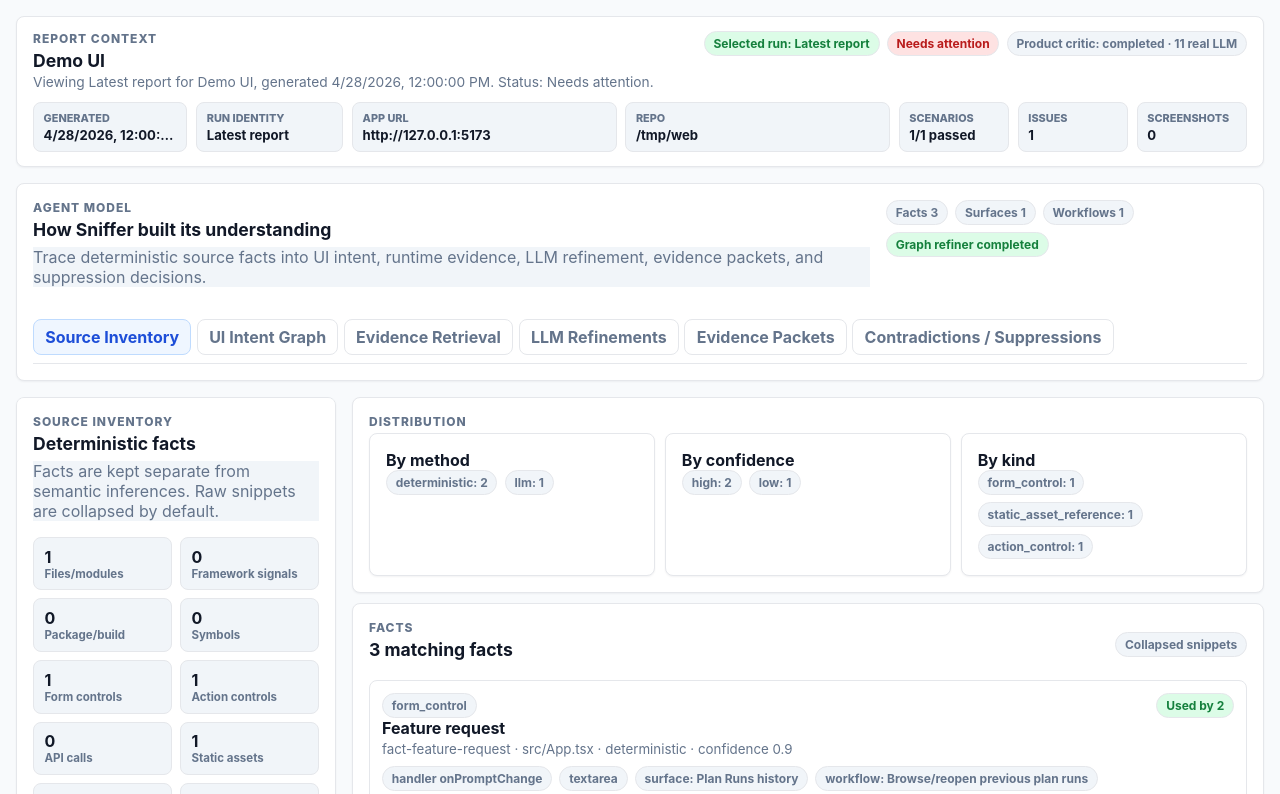
Test: Agent Model view › shows evidence retrieval and evidence packets
Click the tab "Evidence Retrieval".
click(429, 337)  # box [344,319,513,356]
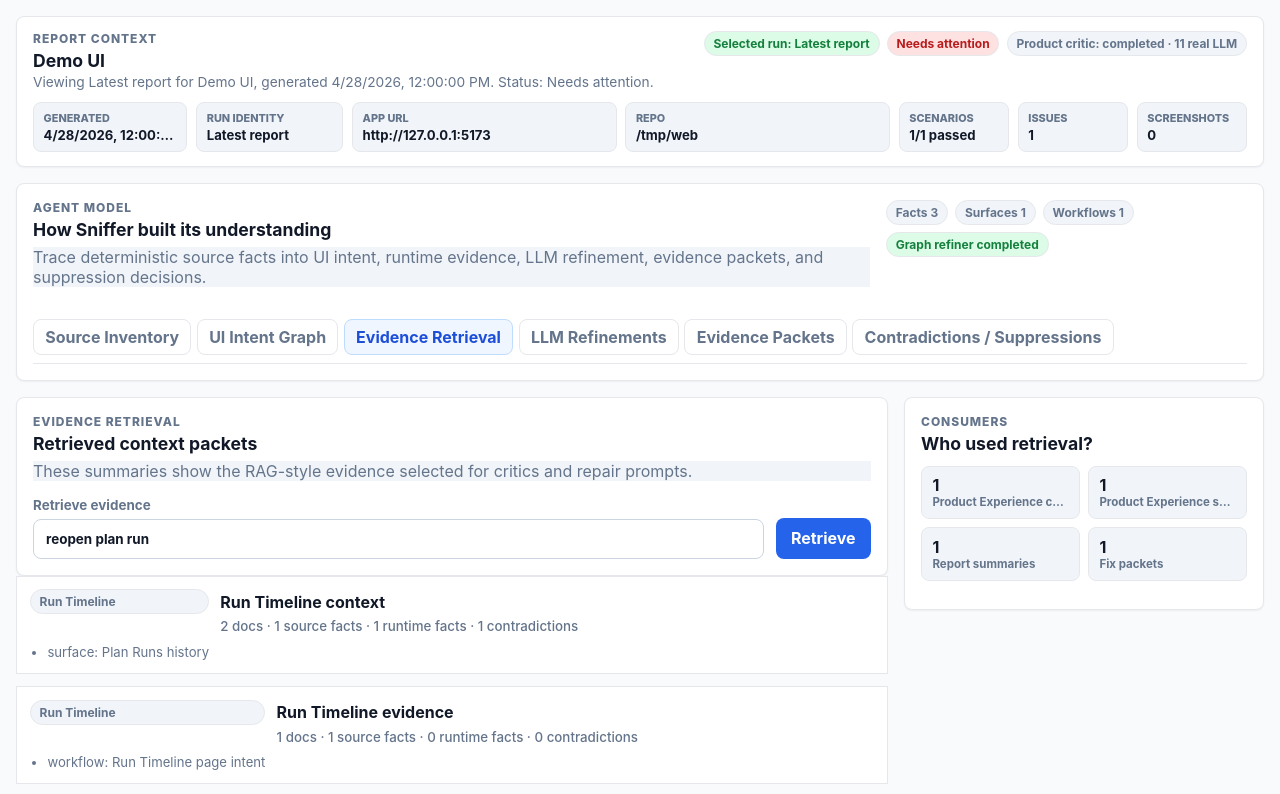
Expected: the heading "Retrieved context packets" is shown, [33,433,257,454]
Expected: the text "Run Timeline context" is shown, [220,592,385,612]
Replace the text in the field named "Evidence retrieval query" with "raw json copy" at (398, 539), box [33,519,764,559]
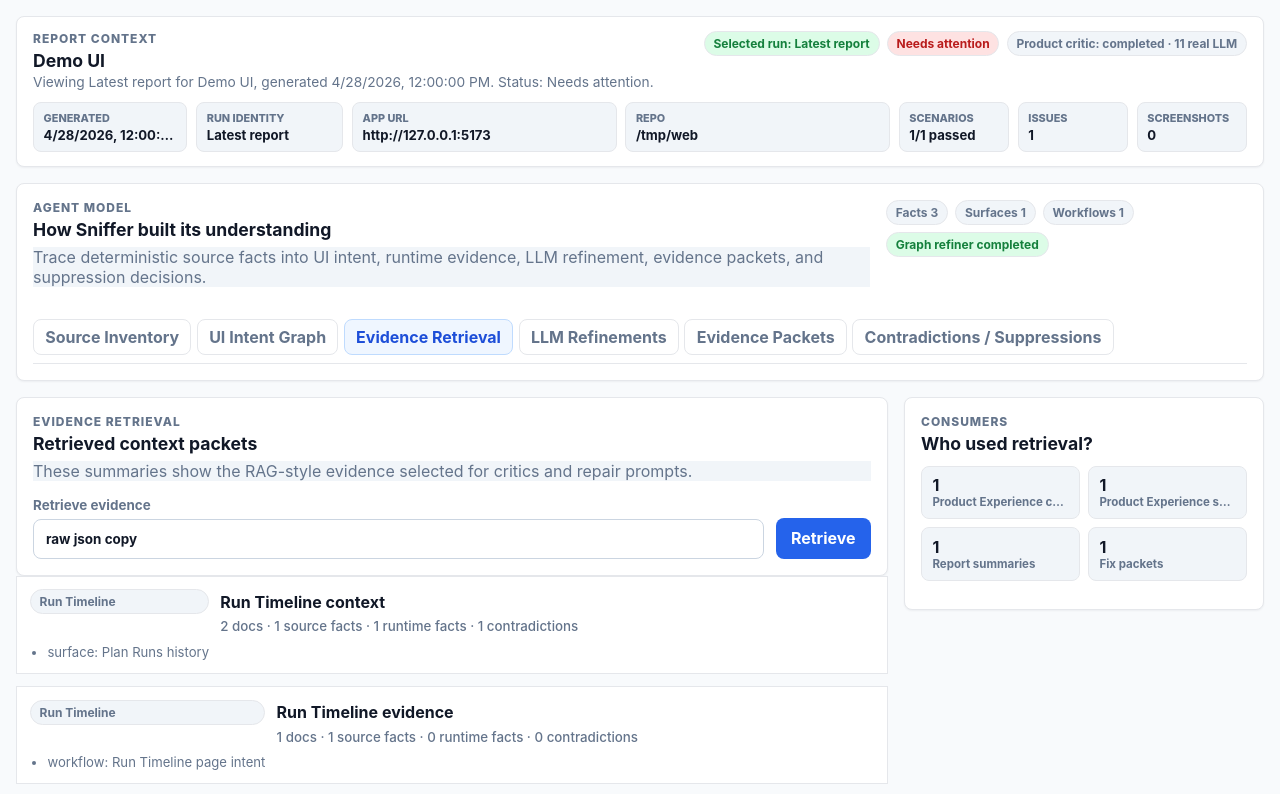
Click the button "Retrieve".
click(823, 538)  # box [776,518,871,559]
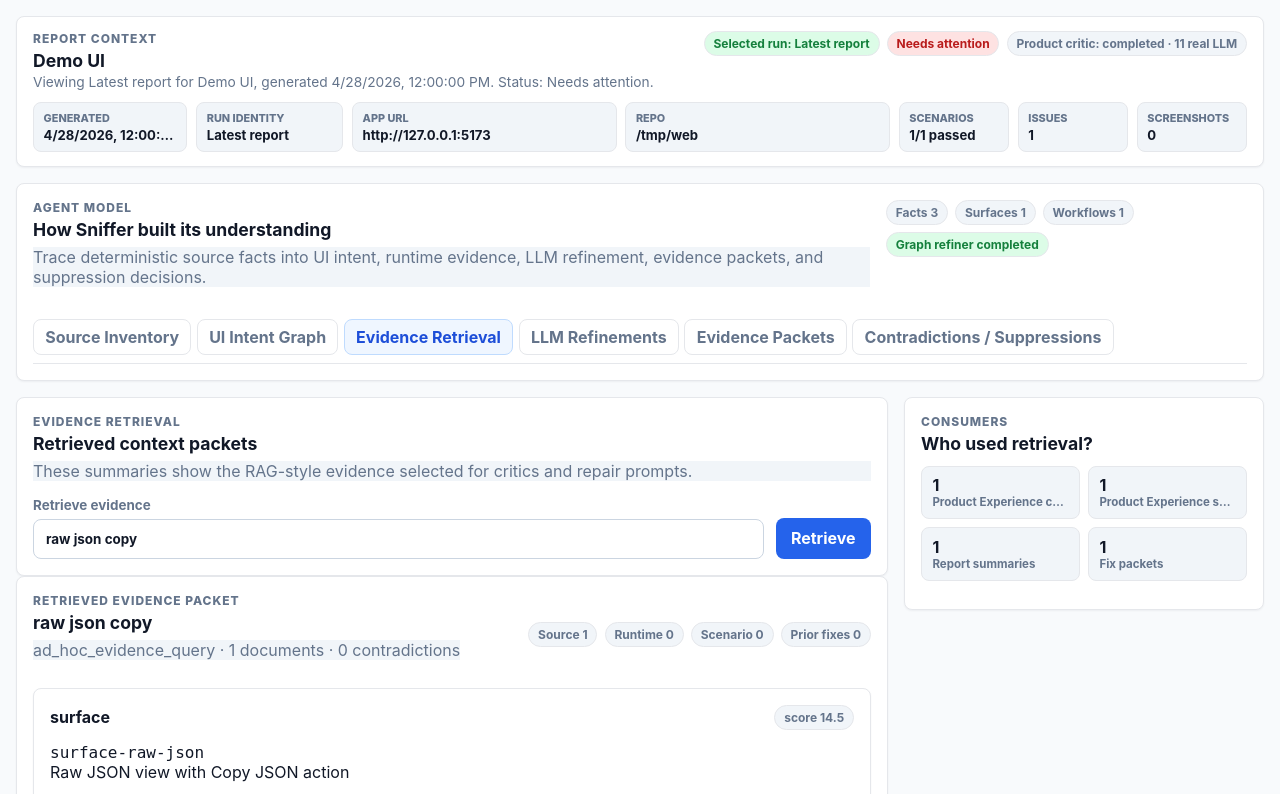
Expected: the text "Raw JSON view with Copy JSON action" is shown, [50,762,349,782]
Click the tab "Evidence Packets".
click(766, 337)  # box [684,319,847,356]
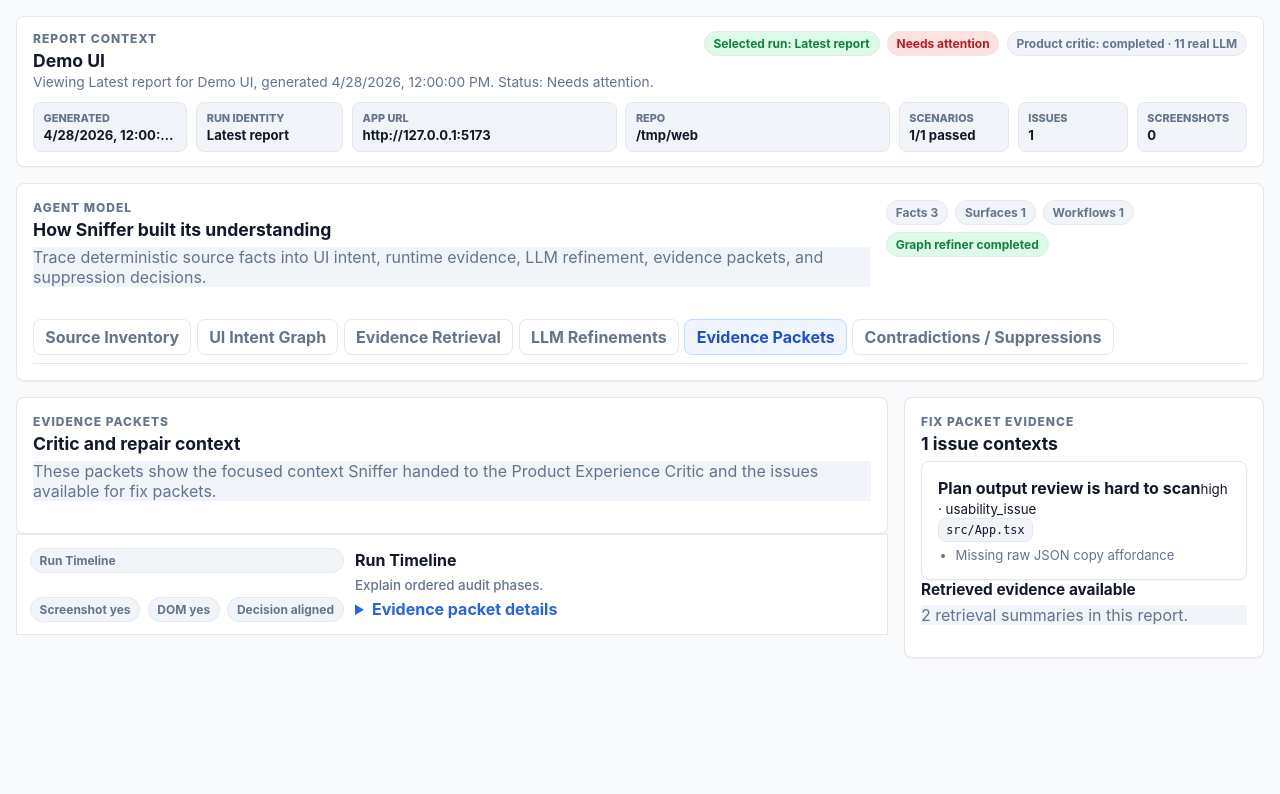
Expected: the 1st text "Run Timeline" is shown, [30,548,344,573]
Expected: the heading "Critic and repair context" is shown, [33,433,240,454]
